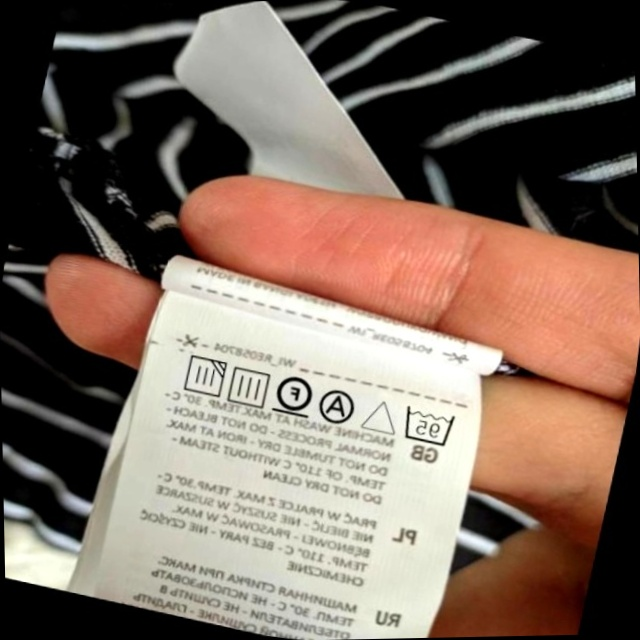95C: (396, 400, 460, 451)
bleach: (360, 391, 403, 440)
drip_dry: (223, 361, 275, 412)
drip_dry_in_shade: (176, 349, 230, 402)
dry_clean: (315, 384, 361, 429)
dry_clean_petrol_only: (270, 367, 318, 421)
